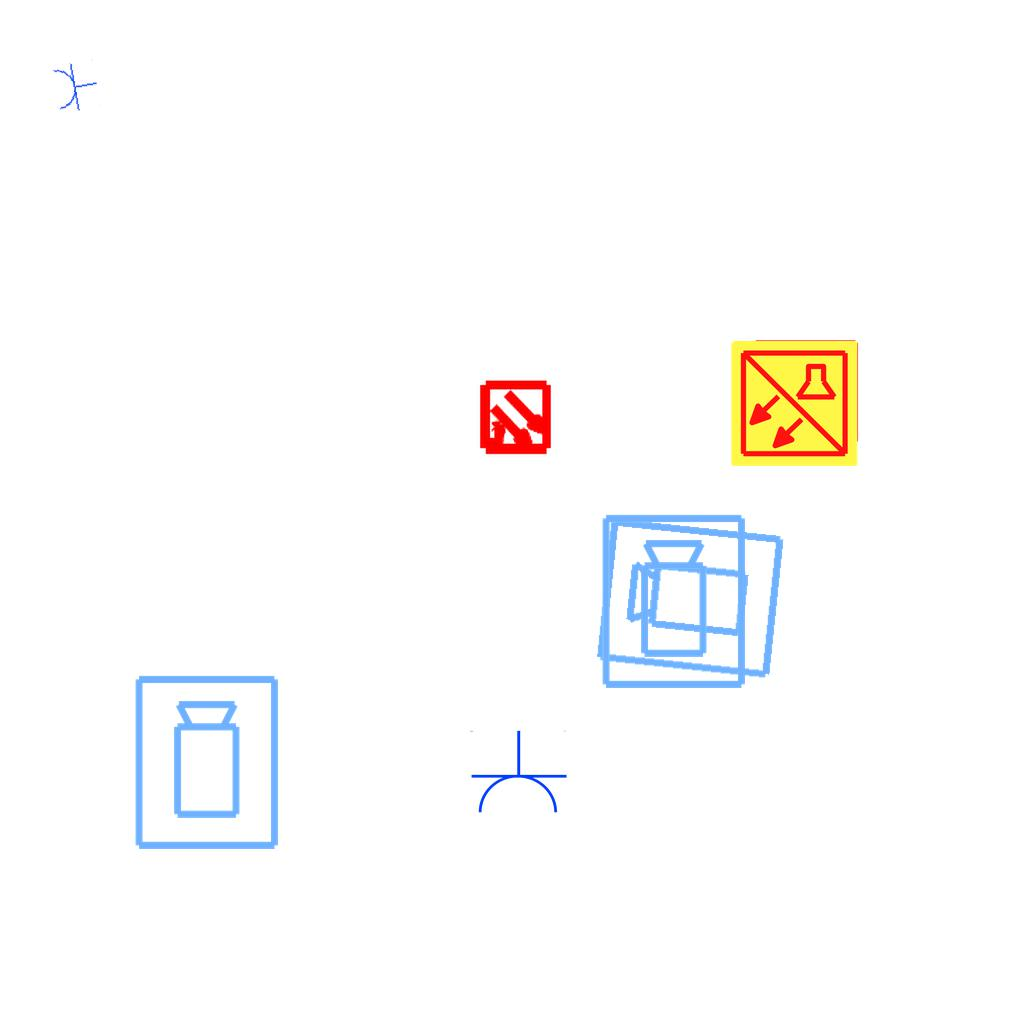KFO_Kamera_mit_Festobjektiv: (592, 510, 790, 684), (131, 672, 285, 854), (598, 511, 752, 693)
OKW_Multisensormelder_(Kombination_optischer_Rauch-Kahlenmonoxid_Waerme-Melder): (728, 337, 860, 469)
OT_Multisensormelder_(Kombination_RMO_WMD): (459, 363, 572, 476)
Schukosteckdose_einfach: (468, 730, 568, 817), (50, 58, 102, 115)
